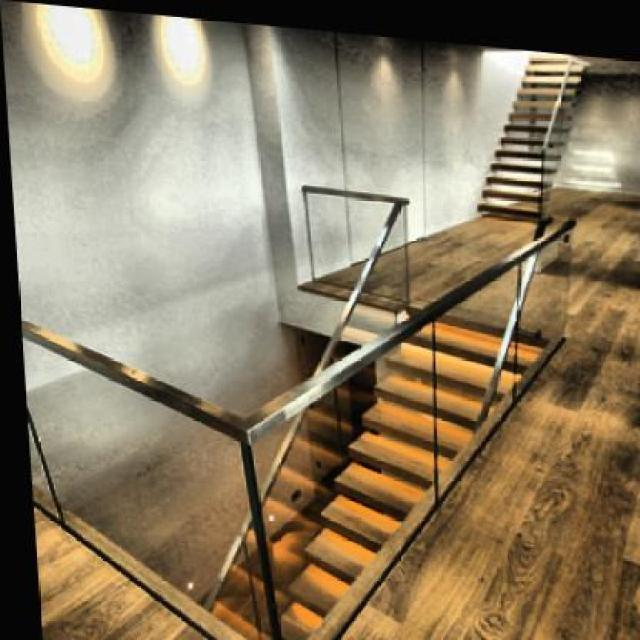stair: (468, 36, 588, 212)
